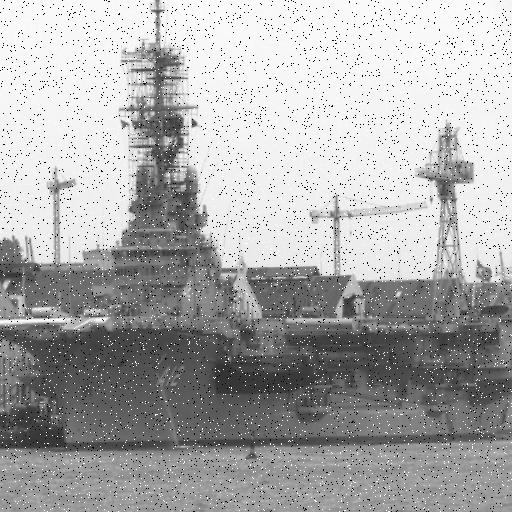Portanaves: (1, 1, 512, 454)
